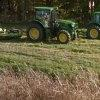Tractor: (19, 2, 80, 58)
